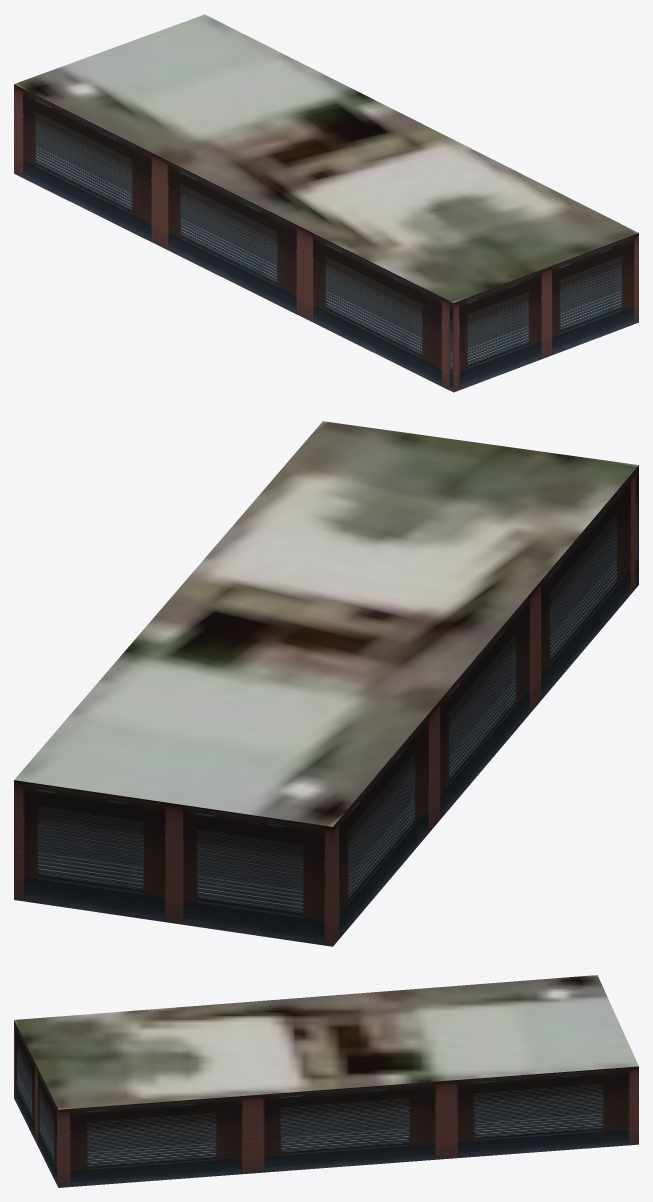
The model's file is T_1SVRV4NVQ5.dae.
3 renders of one model, top to bottom at view 1: azimuth 30°, elevation 25°; view 2: azimuth 150°, elevation 25°; view 3: azimuth 270°, elevation 25°, orthographic. The views are drawn at different scales.
Parts seen in each view (by area): view 1: SketchUp (×3); view 2: SketchUp (×3); view 3: SketchUp (×3).
Part boxes in pixels (box(x1,y1,x2,y2)): SketchUp (×3): box(14, 14, 638, 392); SketchUp (×3): box(14, 421, 638, 946); SketchUp (×3): box(14, 975, 638, 1187).
Bounding box in the file's own units: 8.94 × 17.53 × 2.42.
2 materials, 2 textured.
